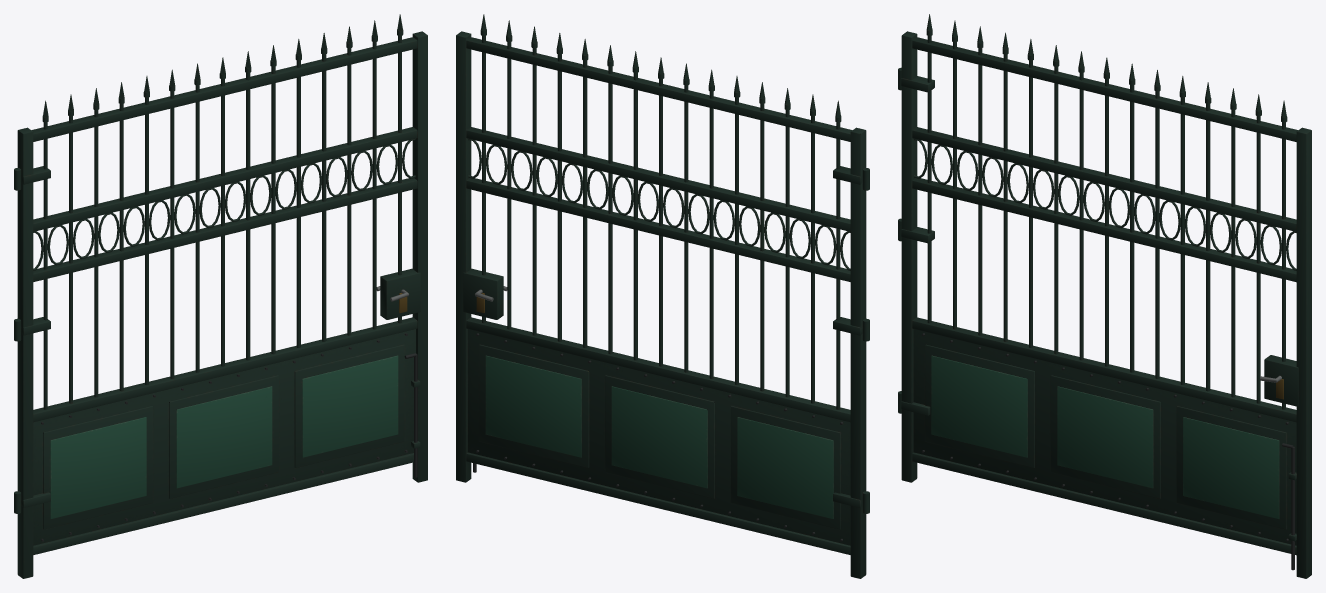
Rendered from CTCC_PROP_ExteriorGate.fbx.
3 renders of one model, left to right at view 1: azimuth 30°, elevation 25°; view 2: azimuth 150°, elevation 25°; view 3: azimuth 330°, elevation 25°, orthographic.
Visible parts, largest first — view 1: CTCC_PROP_ExteriorGate_LOD0; view 2: CTCC_PROP_ExteriorGate_LOD0; view 3: CTCC_PROP_ExteriorGate_LOD0.
Part boxes in pixels (x1,y1,x2,y2): CTCC_PROP_ExteriorGate_LOD0: (14, 14, 427, 578); CTCC_PROP_ExteriorGate_LOD0: (456, 14, 869, 578); CTCC_PROP_ExteriorGate_LOD0: (898, 14, 1311, 578).
Size of what is drawn, in the model's own units: 2.39 by 2.62 by 0.1659.
